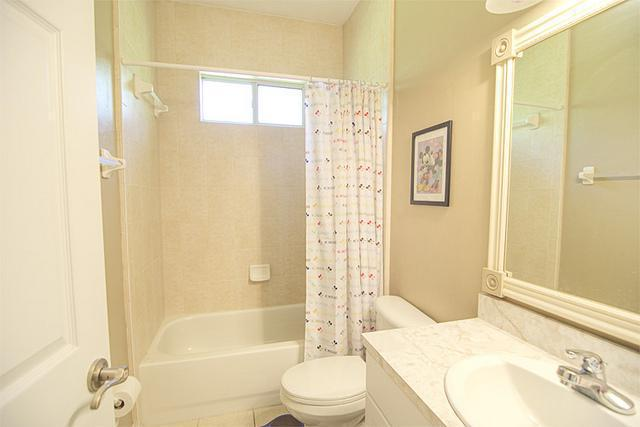Lavamanos: (445, 332, 639, 426)
